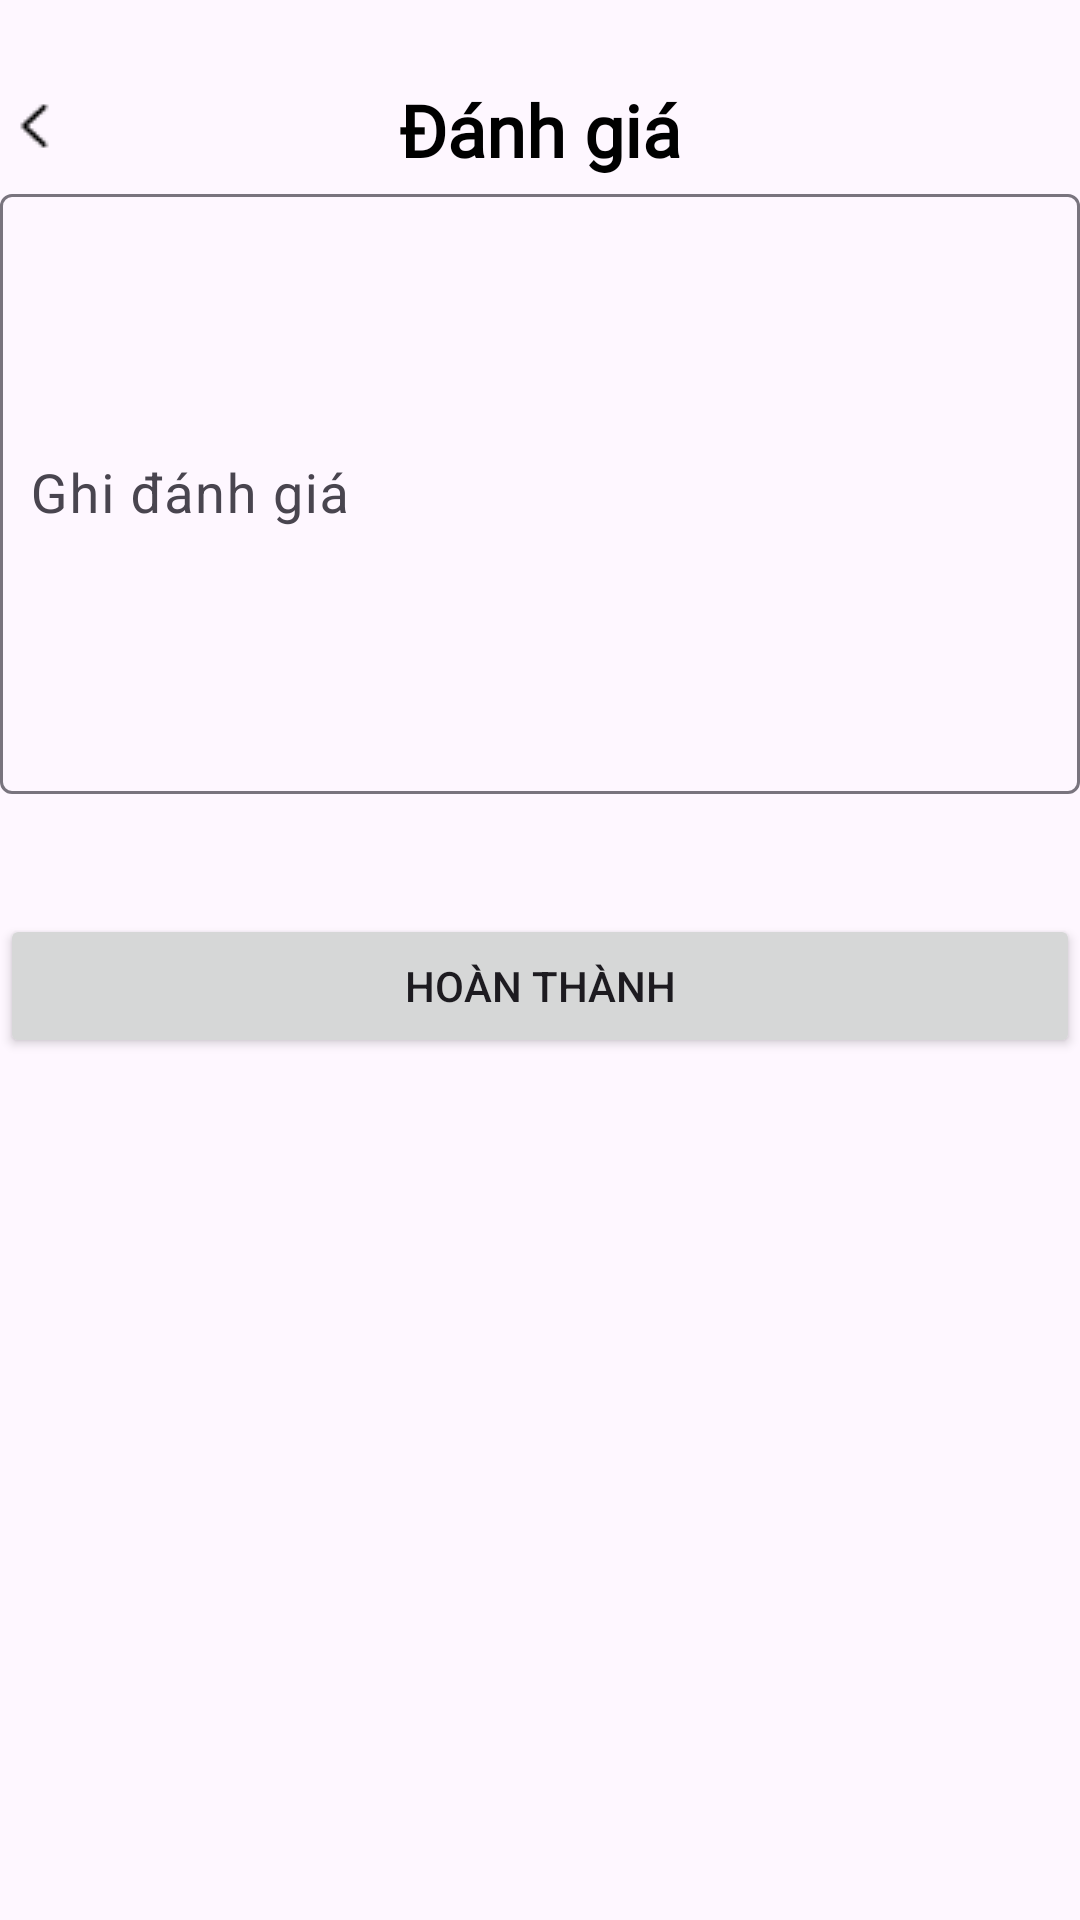

Screen size 1080px x 1920px. Icon name, then its center in pixels as [x,y]:
back: [34,126]
